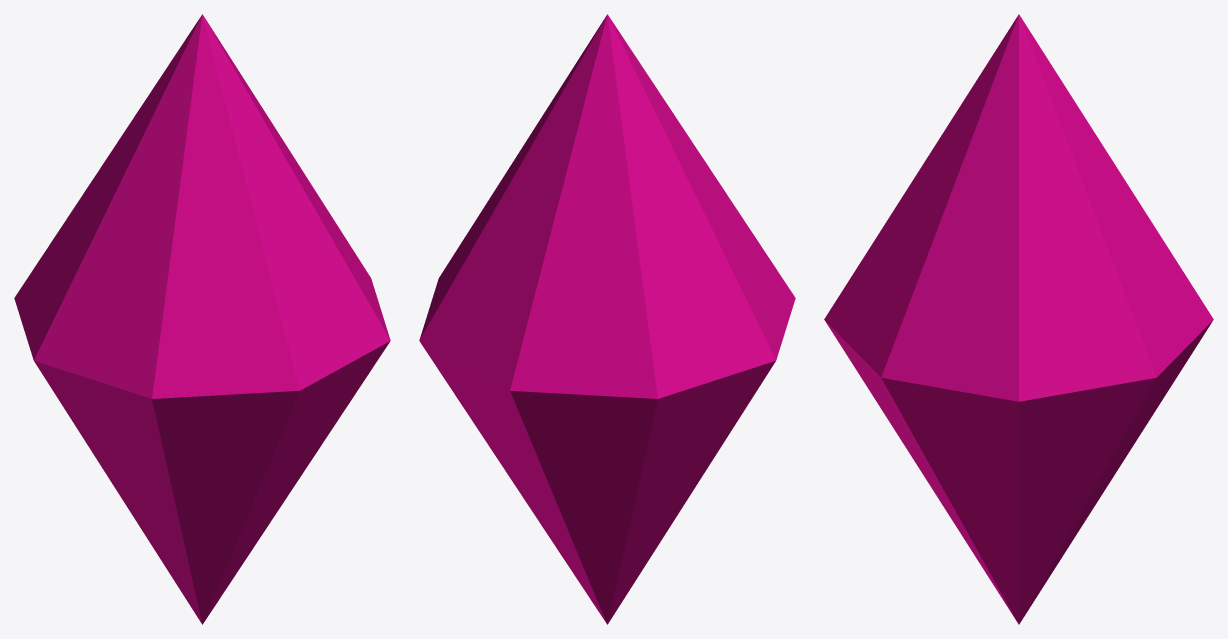
File: gem-2.fbx
The picture shows the model from 3 angles, left to right: view 1: azimuth 30°, elevation 25°; view 2: azimuth 150°, elevation 25°; view 3: azimuth 270°, elevation 25°; orthographic projection.
Parts seen in each view (by area): view 1: gem-2; view 2: gem-2; view 3: gem-2.
Boxes of the visible parts, bbox=[...] form: gem-2: bbox=[14, 14, 390, 624]; gem-2: bbox=[419, 14, 795, 624]; gem-2: bbox=[824, 14, 1213, 624].
Bounding box in the file's own units: 46.02 × 79.6 × 46.02.
